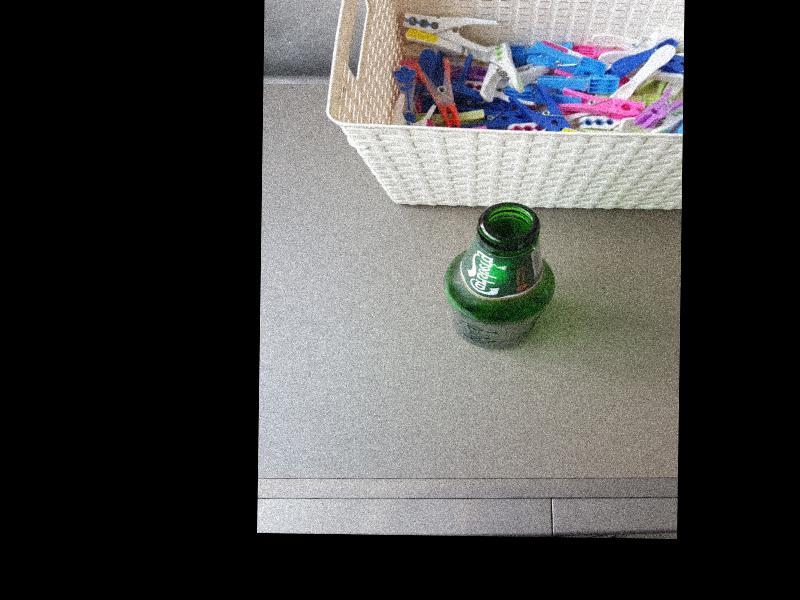Beer: (441, 202, 555, 351)
